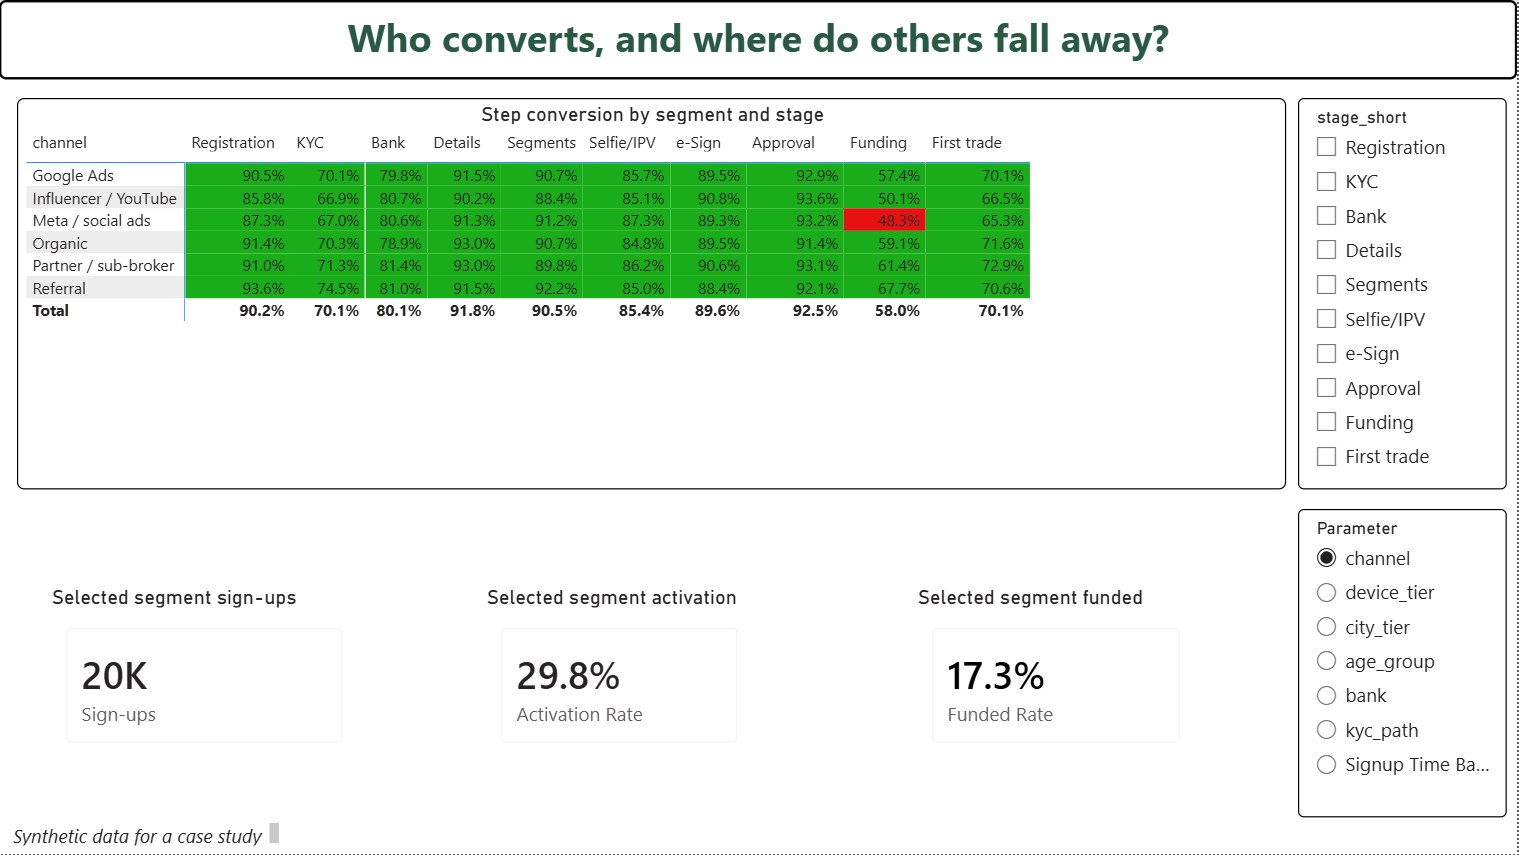

What the dashboard file says about the page in this screenshot:
{"tool":"powerbi","page":{"name":"Segment explorer","canvas":[1280,720],"ordinal":1},"visuals":[{"type":"textbox","box":[0,0,1280,66.7],"z":0},{"type":"pivotTable","title":"Step conversion by segment and stage","fields":{"Rows":["users.channel"],"Columns":["dim_stage.stage_short"],"Values":["funnel_events.Step Conversion %"]},"box":[15.6,82.2,1070,330],"z":1000},{"type":"slicer","fields":{"Values":["dim_stage.stage_short"]},"box":[1095,82.5,176.2,330],"z":2000},{"type":"slicer","fields":{"Values":["Parameter.Parameter"]},"box":[1095,428.8,176.2,260],"z":3000},{"type":"cardVisual","title":"Selected segment sign-ups","fields":{"Data":["funnel_events.Sign-ups"]},"box":[40,493.3,267.8,150],"z":4000},{"type":"cardVisual","title":"Selected segment activation","fields":{"Data":["funnel_events.Activation Rate"]},"box":[406.8,493.3,233.3,150],"z":5000},{"type":"cardVisual","title":"Selected segment funded","fields":{"Data":["funnel_events.Funded Rate"]},"box":[770,493.3,243.3,150],"z":6000},{"type":"textbox","box":[0,688.9,241.1,28.9],"z":6001}]}

Visuals, with their boxes in screenshot pixels (x1, y1, x2, y2), scaled from the page's 1280x720 canvas onto the 1519x855 screenshot:
textbox: Rect(0, 0, 1518, 79)
"Step conversion by segment and stage" pivotTable: Rect(19, 98, 1288, 489)
slicer - dim_stage.stage_short: Rect(1299, 98, 1509, 490)
slicer - Parameter.Parameter: Rect(1299, 509, 1509, 818)
"Selected segment sign-ups" cardVisual: Rect(47, 586, 365, 764)
"Selected segment activation" cardVisual: Rect(483, 586, 760, 764)
"Selected segment funded" cardVisual: Rect(914, 586, 1203, 764)
textbox: Rect(0, 818, 286, 852)
